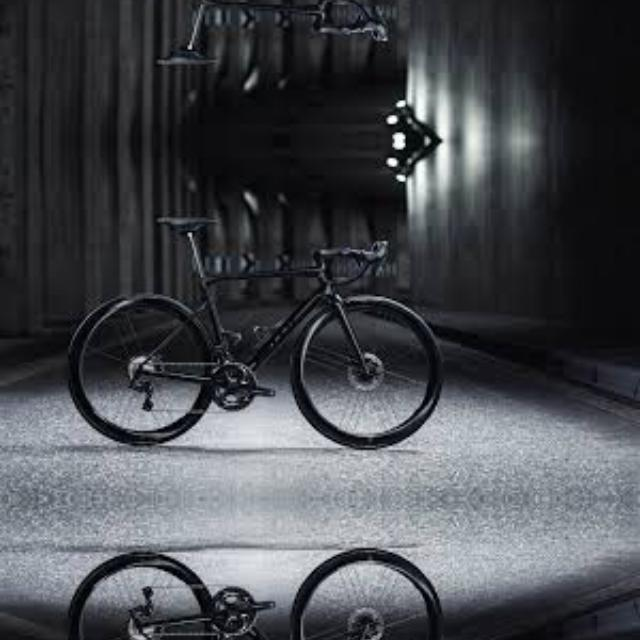obstacle: (52, 202, 466, 456), (52, 541, 466, 640), (52, 0, 466, 78)
